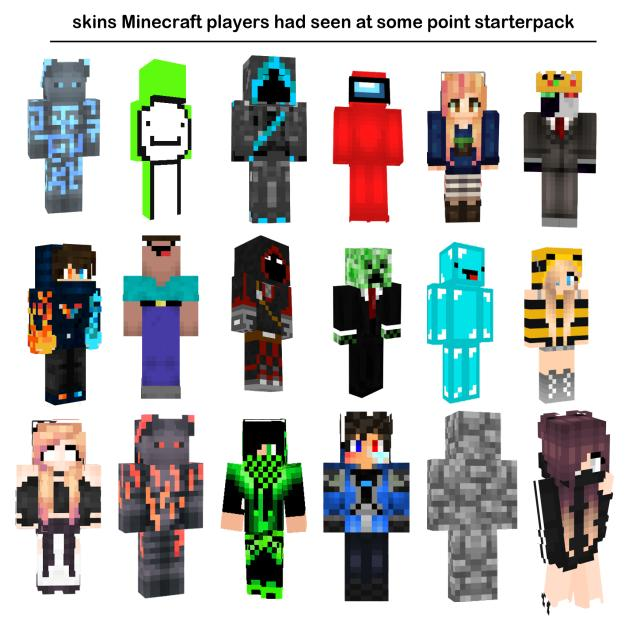Player: (534, 410, 616, 619), (325, 410, 410, 601), (13, 418, 102, 594), (221, 421, 306, 598), (122, 234, 200, 398), (29, 243, 102, 404), (428, 69, 499, 223), (525, 246, 591, 405), (132, 57, 194, 220)
